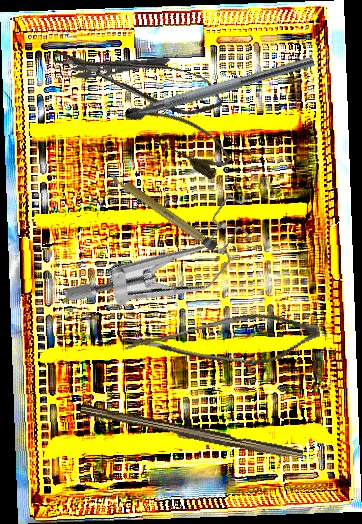Cannula: (119, 88, 237, 183)
Chopper: (103, 41, 316, 129)
Micro Scissor: (120, 288, 324, 398), (49, 31, 229, 125)
Scalpel Handle: (78, 403, 305, 464), (106, 169, 220, 253)
Speculum: (60, 145, 273, 367)
Tissue Forceps: (54, 47, 171, 84)
